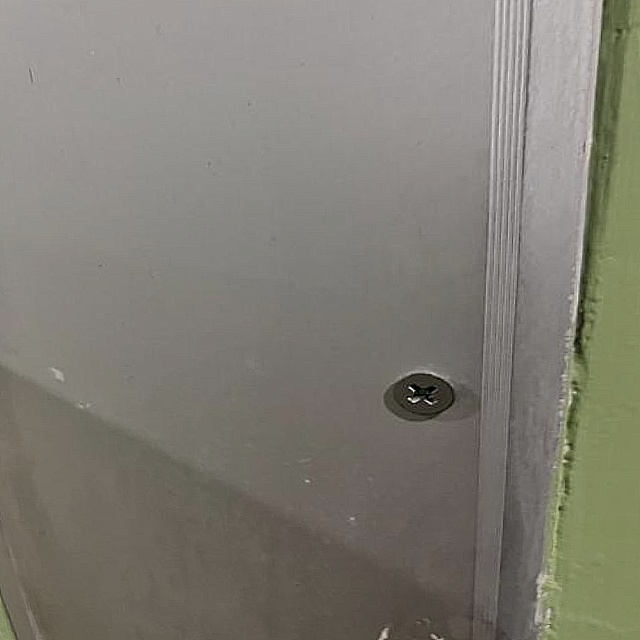phillips: (391, 372, 456, 416)
